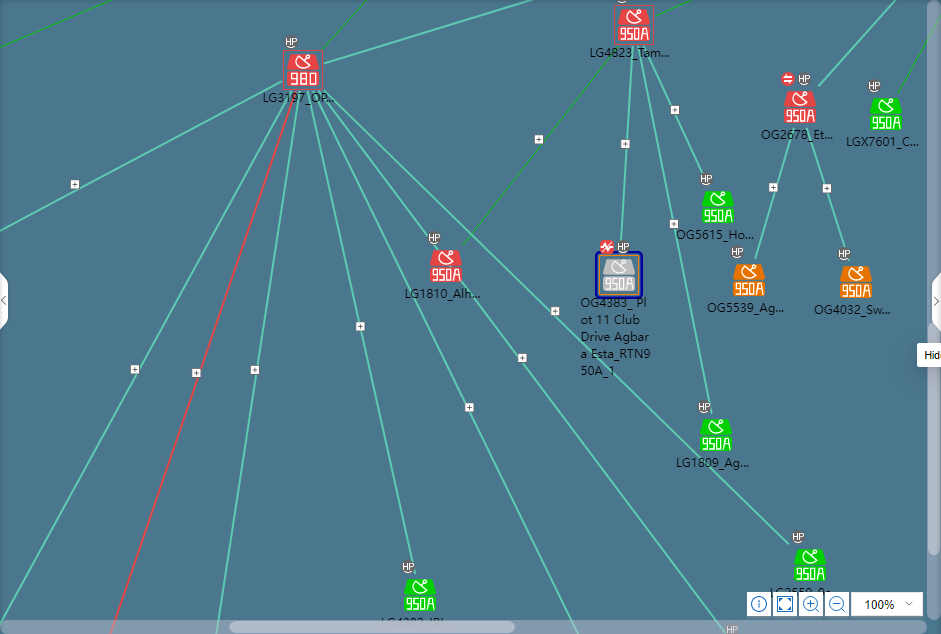Link_Blue: (317, 91, 728, 634), (322, 89, 791, 547), (0, 90, 293, 626), (312, 91, 580, 634), (305, 91, 417, 576), (214, 91, 302, 634), (0, 79, 283, 233), (636, 46, 713, 415), (324, 0, 535, 66), (642, 46, 713, 190), (815, 1, 898, 89), (805, 127, 852, 263), (752, 128, 795, 261), (619, 47, 634, 242)
Link_Green: (459, 47, 622, 251), (0, 1, 113, 51), (320, 1, 369, 50), (895, 35, 927, 94), (655, 0, 692, 18)
Link_Red: (113, 93, 296, 620)
RTN_Gray: (599, 258, 635, 294)
RTN_Green: (403, 580, 435, 612), (702, 191, 733, 223), (870, 98, 901, 130), (795, 550, 825, 582), (700, 420, 730, 451)
RTN_Orange: (733, 264, 764, 296), (840, 267, 871, 298)
RTN_Red: (615, 7, 652, 43), (285, 53, 319, 87), (430, 250, 461, 282), (784, 91, 815, 123)
